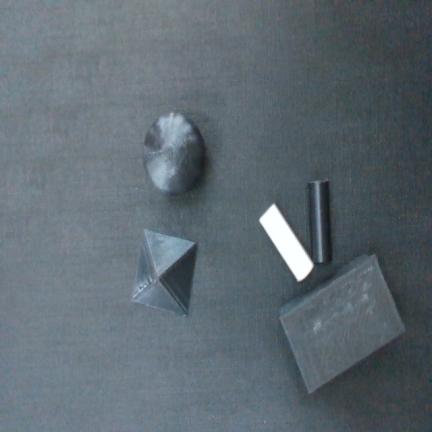Cilindro: (258, 201, 315, 282), (308, 180, 331, 263)
Esfera: (143, 113, 205, 194)
Paralelepipedo: (279, 255, 407, 395)
Piramide: (132, 228, 199, 315)
